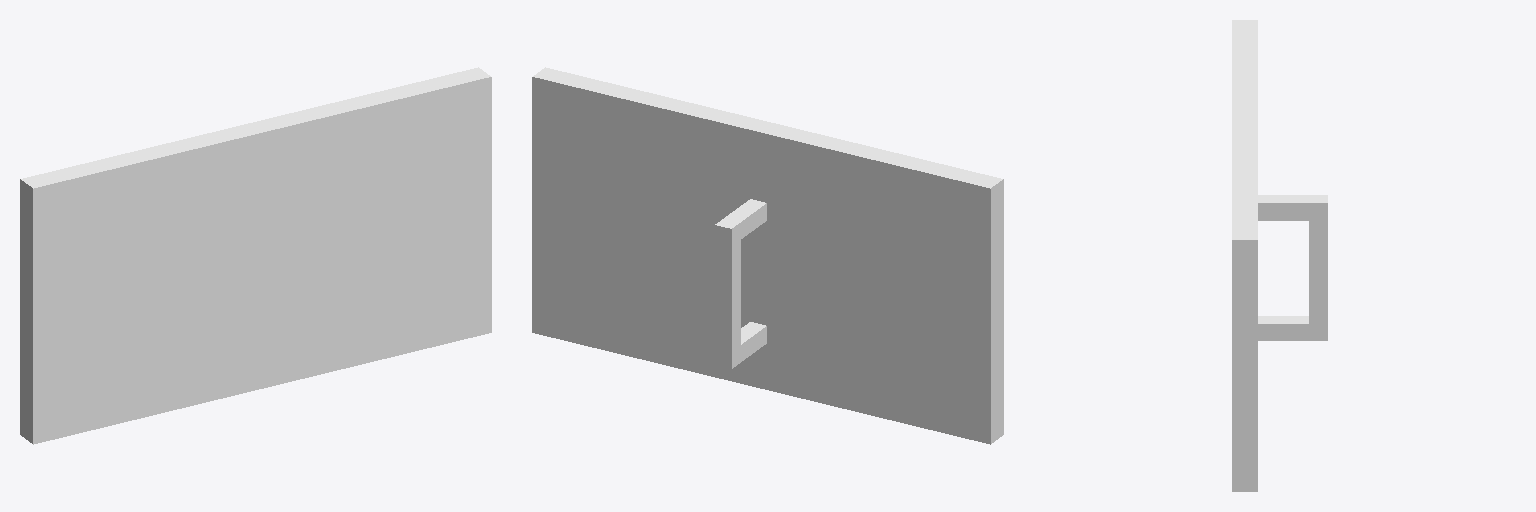
robot.urdf — slide_door:
<?xml version="1.0" ?>
<robot name="slide_door">
 <link name="baseLink">
   <contact>
     <lateral_friction value="0.5"/>
   </contact>
   <inertial>
     <origin rpy="0 0 0" xyz="0.205081 0.211543 0.749504"/>
      <mass value="1.0"/>
      <inertia ixx="0.000008" ixy="-0.000000" ixz="0.000000" iyy="0.000036" iyz="0.000000" izz="0.000028"/>
   </inertial>
   <visual>
     <origin rpy="0 0 0" xyz="0 0 0"/>
     <geometry>
       <mesh filename="slide_door.obj" scale="1.0 1.0 1.0"/>
     </geometry>
      <material name="white">
       <color rgba="1 1 1 1"/>
     </material>
   </visual>
   <collision>
     <origin rpy="0 0 0" xyz="0 0 0"/>
     <geometry>
       <mesh filename="slide_door_vhacd2.obj" scale="1.0 1.0 1.0"/>
     </geometry>
   </collision>
 </link>
</robot>

--- Render facts (derived) ---
3 views of the same robot in one strip: view 1: azimuth 30°, elevation 25°; view 2: azimuth 150°, elevation 25°; view 3: azimuth 270°, elevation 25° (orthographic).
Robot: slide_door — 1 links, 0 joints (none); root link baseLink; default pose: every joint at zero.
Visible links, largest first — view 1: baseLink; view 2: baseLink; view 3: baseLink.
Link boxes in pixels (bbox=[...]): baseLink: bbox=[20, 67, 491, 444]; baseLink: bbox=[532, 67, 1003, 444]; baseLink: bbox=[1232, 20, 1327, 491].
Bounding box of the posed robot: 0.41 × 0.075 × 0.219 m (x, y, z).
1 mesh visuals loaded from 1 distinct referenced files (1 OBJ).